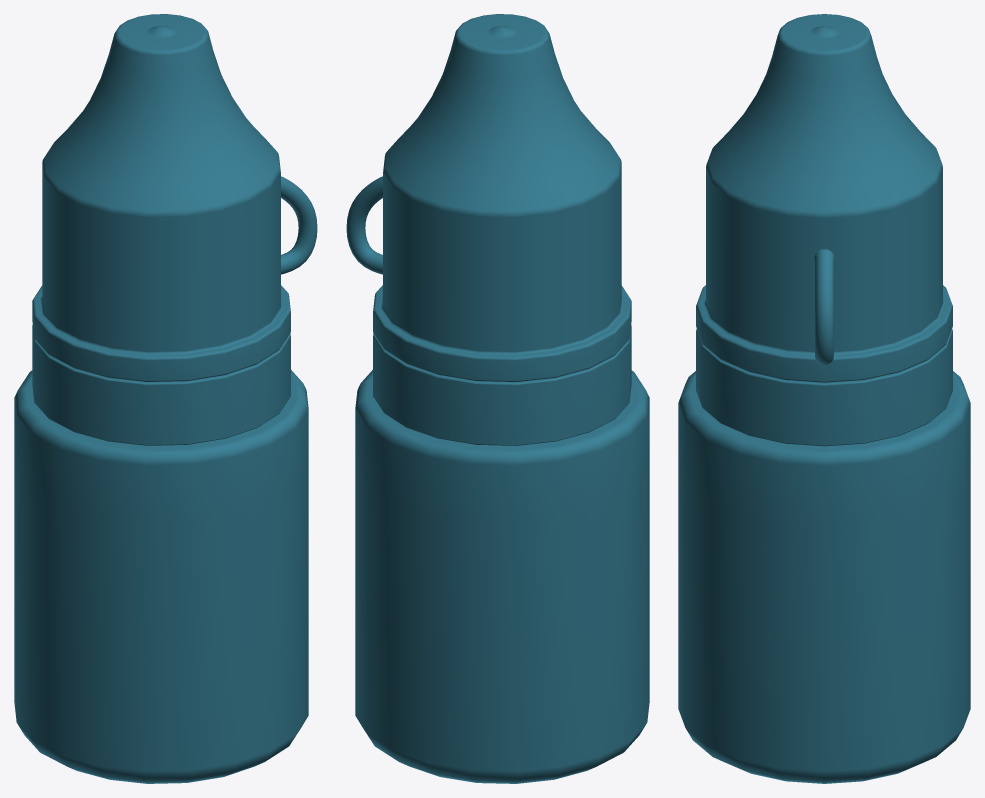
3 views of the same model, side by side, from view 1: azimuth 30°, elevation 25°; view 2: azimuth 150°, elevation 25°; view 3: azimuth 270°, elevation 25° (orthographic).
Visible parts, largest first — view 1: polySurface4, polySurface3, polySurface1, pCylinder2; view 2: polySurface4, polySurface3, polySurface1, pCylinder2; view 3: polySurface4, polySurface3, polySurface1, pCylinder2.
Boxes of the visible parts, x1,y1,x2,y2 form: polySurface4: (14, 370, 308, 783); polySurface3: (32, 14, 290, 381); polySurface1: (32, 325, 290, 445); pCylinder2: (281, 176, 317, 274); polySurface4: (355, 370, 649, 783); polySurface3: (373, 14, 631, 381); polySurface1: (373, 325, 631, 445); pCylinder2: (346, 176, 382, 274); polySurface4: (678, 371, 970, 783); polySurface3: (696, 14, 952, 382); polySurface1: (696, 329, 952, 446); pCylinder2: (814, 249, 834, 365).
Bounding box in the file's own units: 0.795 × 1.89 × 0.7119.
